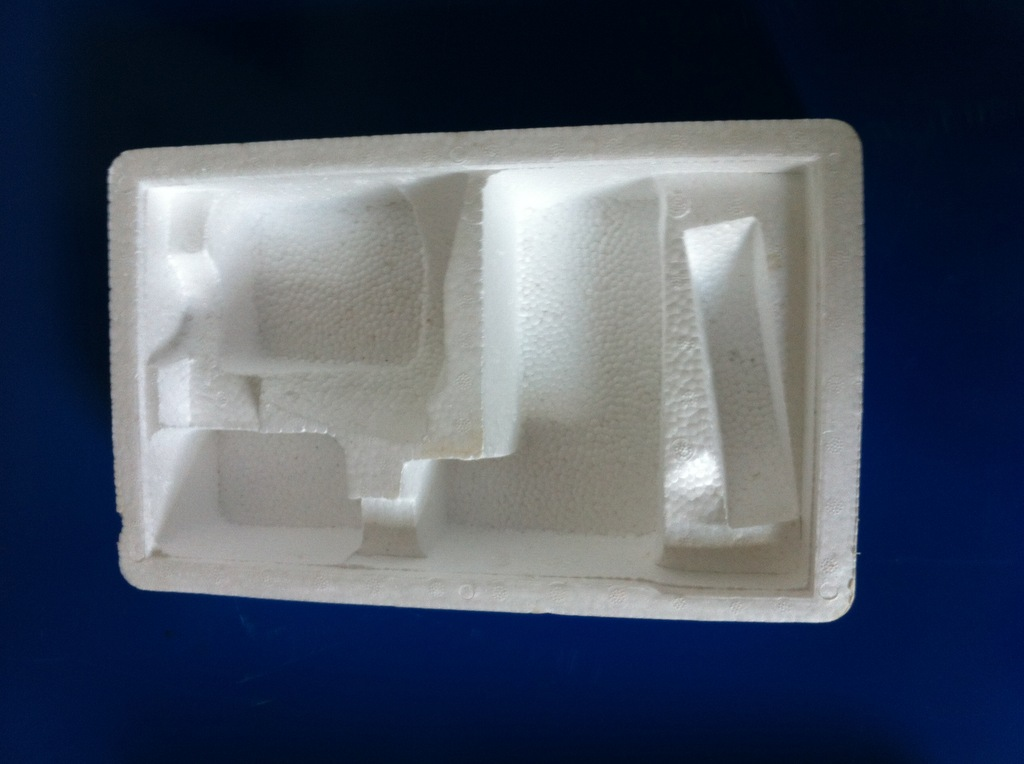Boxes: (109, 120, 862, 622)
